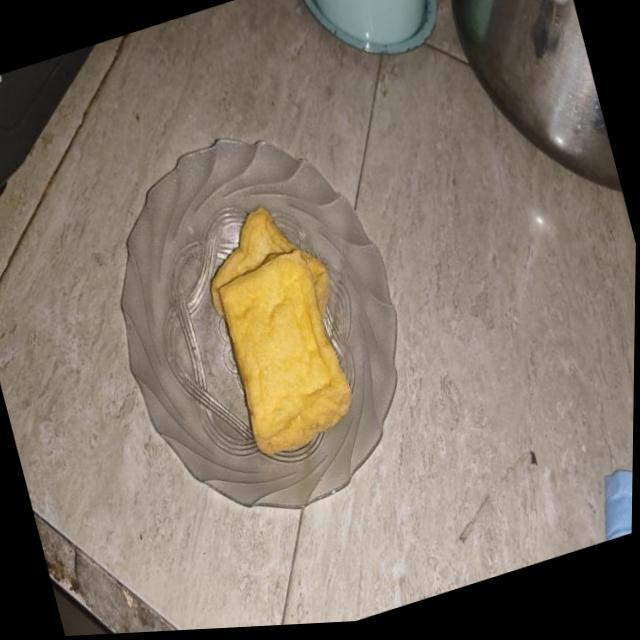tahu_goreng: (217, 248, 351, 454), (210, 206, 330, 368)
